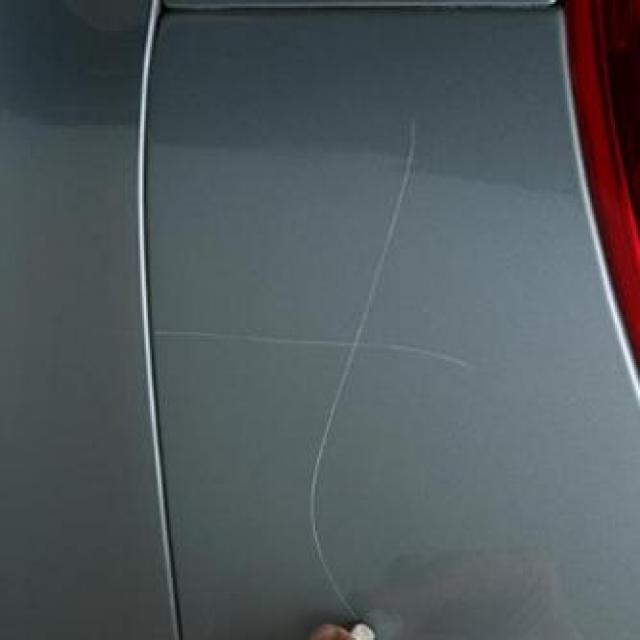scratch: (295, 103, 430, 609), (141, 316, 480, 375)
